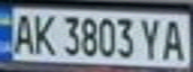0: (97, 15, 118, 58)
3: (115, 15, 139, 60), (57, 12, 81, 57)
8: (78, 14, 100, 58)
A: (160, 16, 190, 62), (9, 10, 36, 55)
K: (30, 10, 57, 56)
Y: (136, 16, 166, 61)
